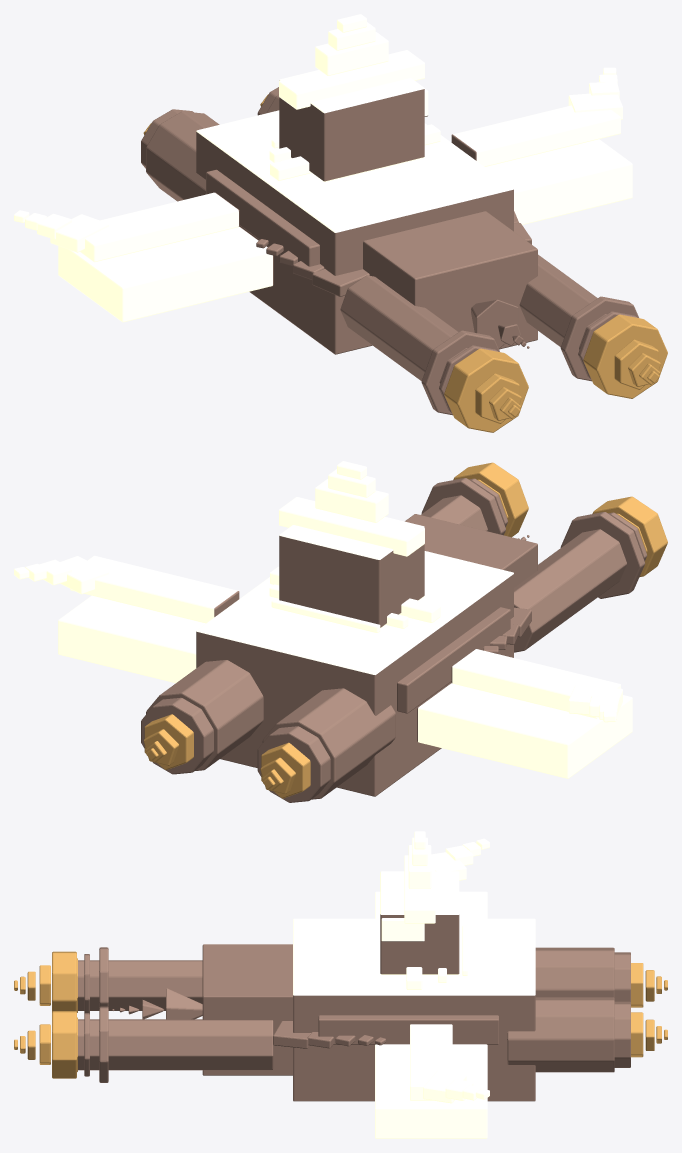
The model's file is Enemy_Gunner.fbx.
3 views of the same model, one above another, from view 1: azimuth 30°, elevation 25°; view 2: azimuth 150°, elevation 25°; view 3: azimuth 270°, elevation 25° (orthographic). The views are drawn at different scales.
Parts seen in each view (by area): view 1: Enemy_Gunner_Buffer_v7; view 2: Enemy_Gunner_Buffer_v7; view 3: Enemy_Gunner_Buffer_v7.
Boxes of the visible parts, <box> form: Enemy_Gunner_Buffer_v7: <box>14,14,667,432</box>; Enemy_Gunner_Buffer_v7: <box>14,461,667,802</box>; Enemy_Gunner_Buffer_v7: <box>14,831,667,1138</box>.
Size of the model in its own units: 5.36 by 2.22 by 5.8.
